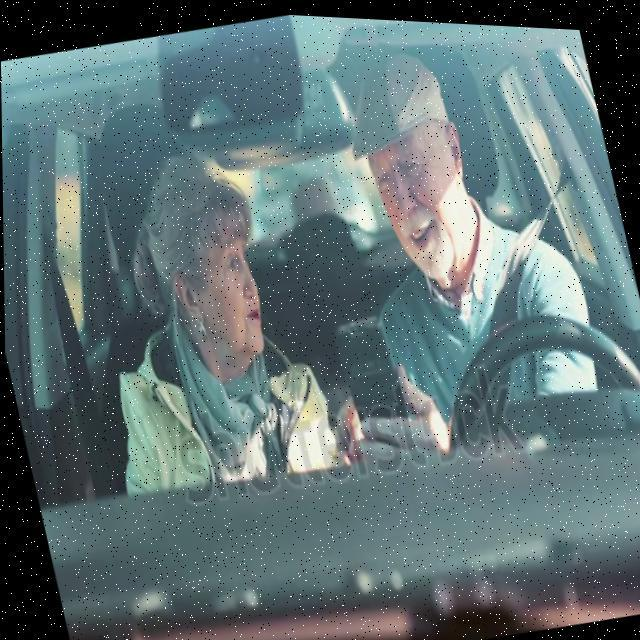PhoneCall: (330, 307, 409, 433)
